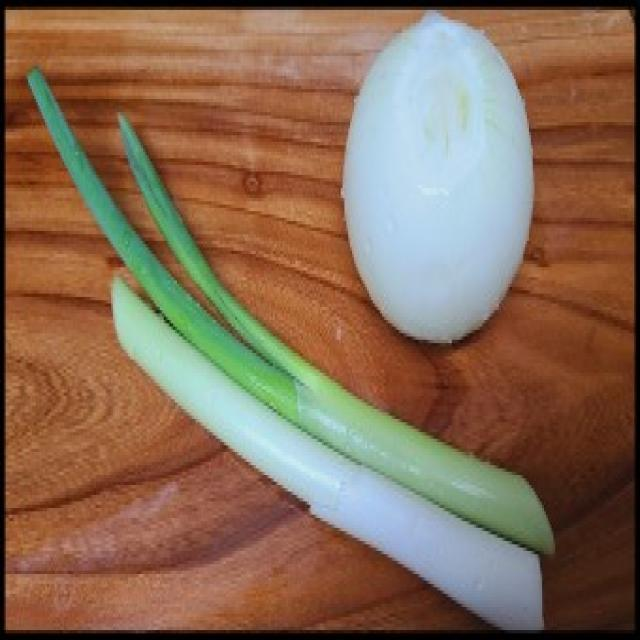onion: (338, 12, 550, 353)
